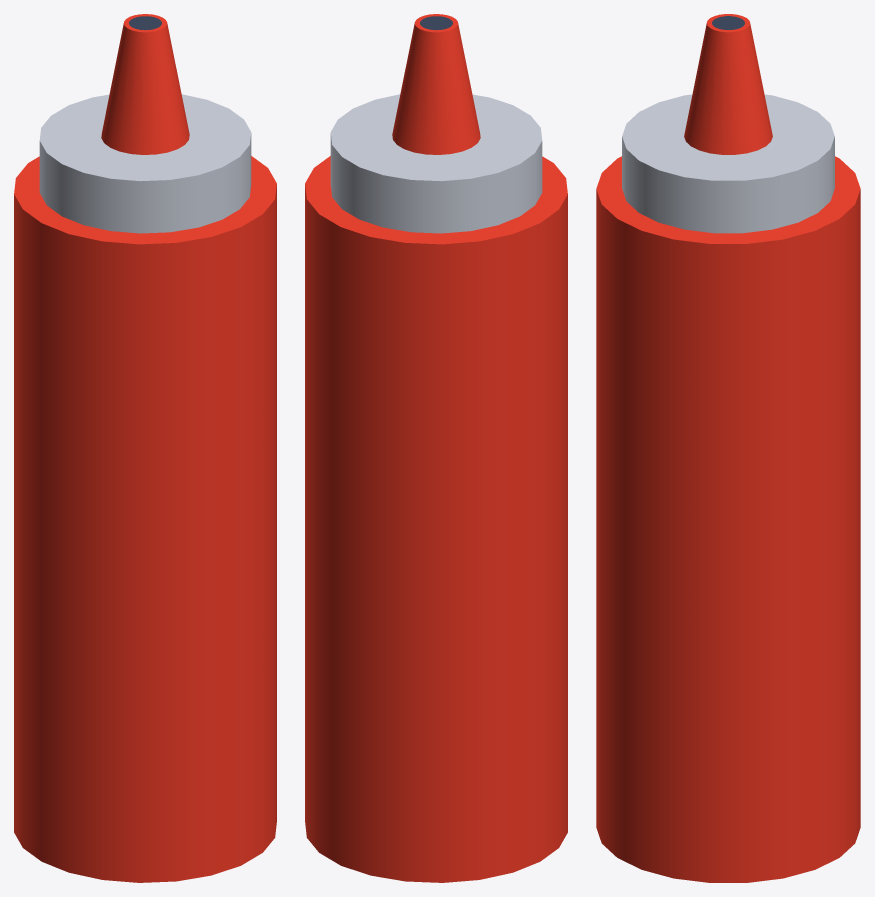
The model's file is Ketchup Bottle.fbx.
The picture shows the model from 3 angles, left to right: view 1: azimuth 30°, elevation 25°; view 2: azimuth 150°, elevation 25°; view 3: azimuth 270°, elevation 25°; orthographic projection.
Visible parts, largest first — view 1: Ketchup Bottle; view 2: Ketchup Bottle; view 3: Ketchup Bottle.
Boxes of the visible parts, box(x1,y1,x2,y2) form: Ketchup Bottle: box(14, 14, 276, 882); Ketchup Bottle: box(305, 14, 567, 882); Ketchup Bottle: box(596, 14, 860, 882).
Bounding box in the file's own units: 0.2947 × 1 × 0.2977.
